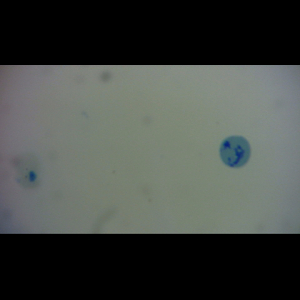aggregate reticulocyte: (218, 134, 253, 169)
